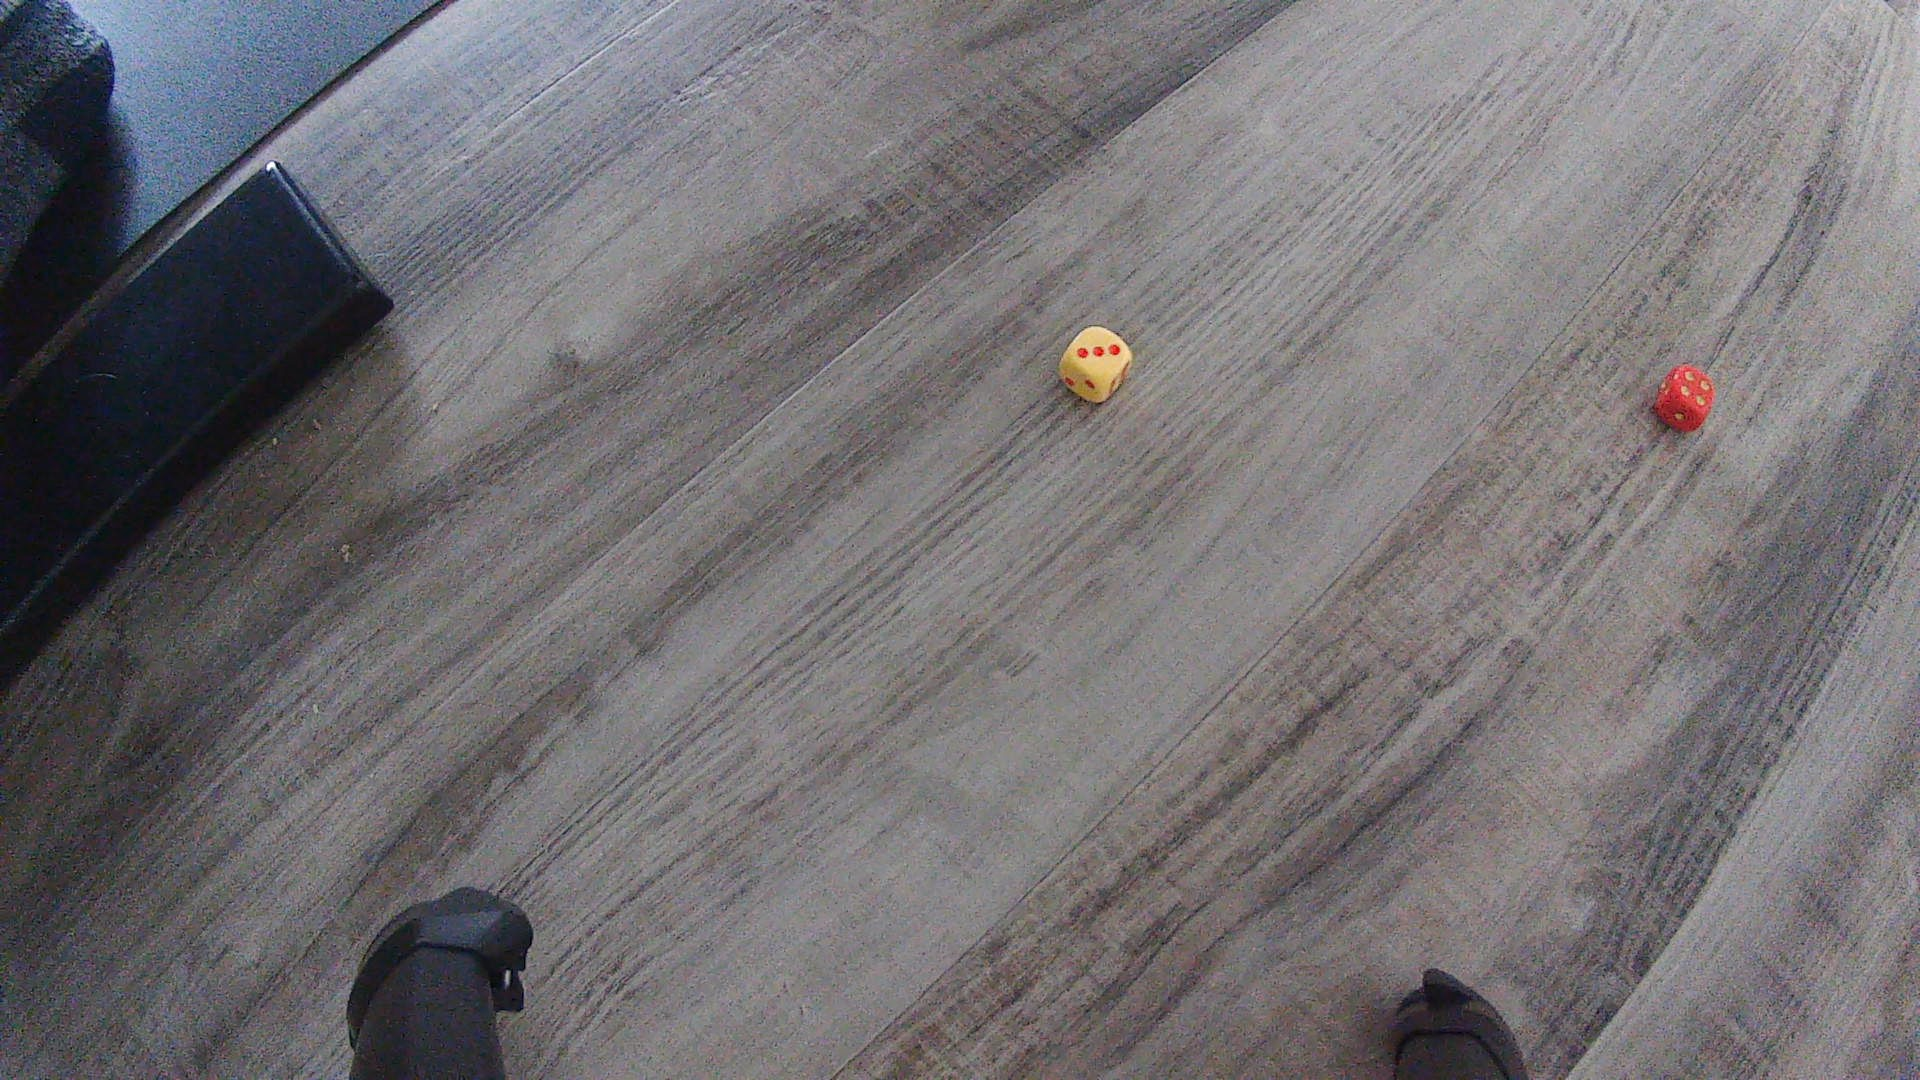die: (1058, 324, 1133, 404), (1650, 364, 1718, 433)
